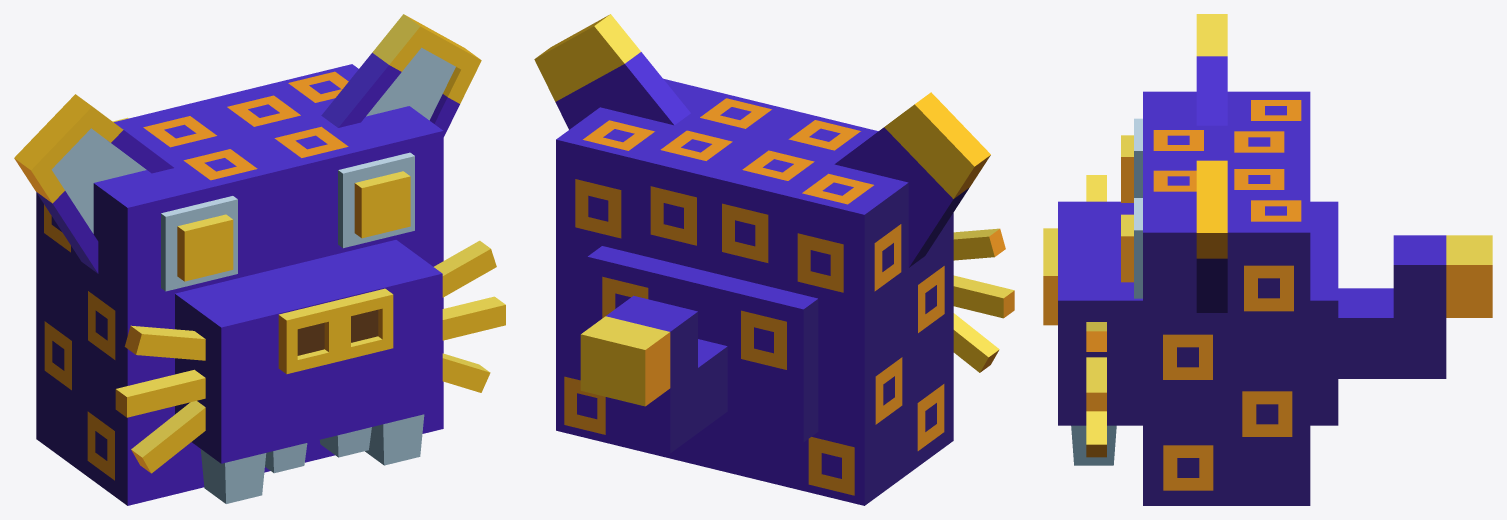
File: headdress_cat.fbx
The picture shows the model from 3 angles, left to right: view 1: azimuth 30°, elevation 25°; view 2: azimuth 150°, elevation 25°; view 3: azimuth 270°, elevation 25°; orthographic projection. The views are drawn at different scales.
Parts seen in each view (by area): view 1: Headdress_Jaguar; view 2: Headdress_Jaguar; view 3: Headdress_Jaguar.
Boxes of the visible parts, left/top/right/bottom form: Headdress_Jaguar: left=14, top=14, right=505, bottom=505; Headdress_Jaguar: left=534, top=14, right=1014, bottom=505; Headdress_Jaguar: left=1043, top=14, right=1492, bottom=505.
Bounding box in the file's own units: 95.86 × 81.87 × 102.
